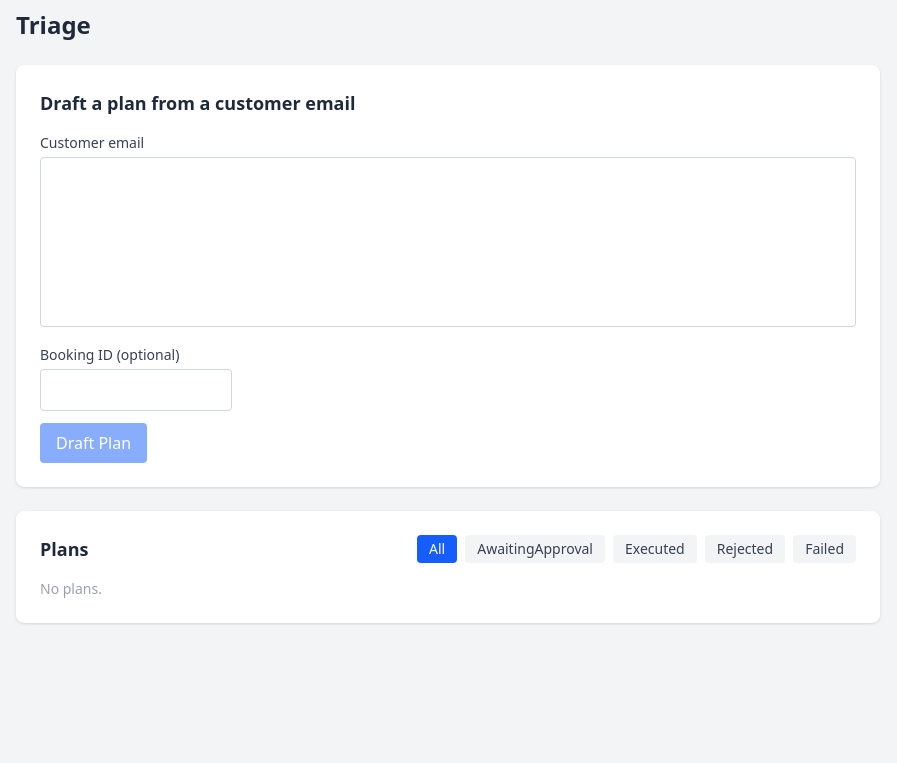
drafting a plan › submits the pasted email and displays the resulting plan
Type "Can I move my visit to next week?" into the text box labelled "Customer email" at (448, 242), box [40,157,856,327]
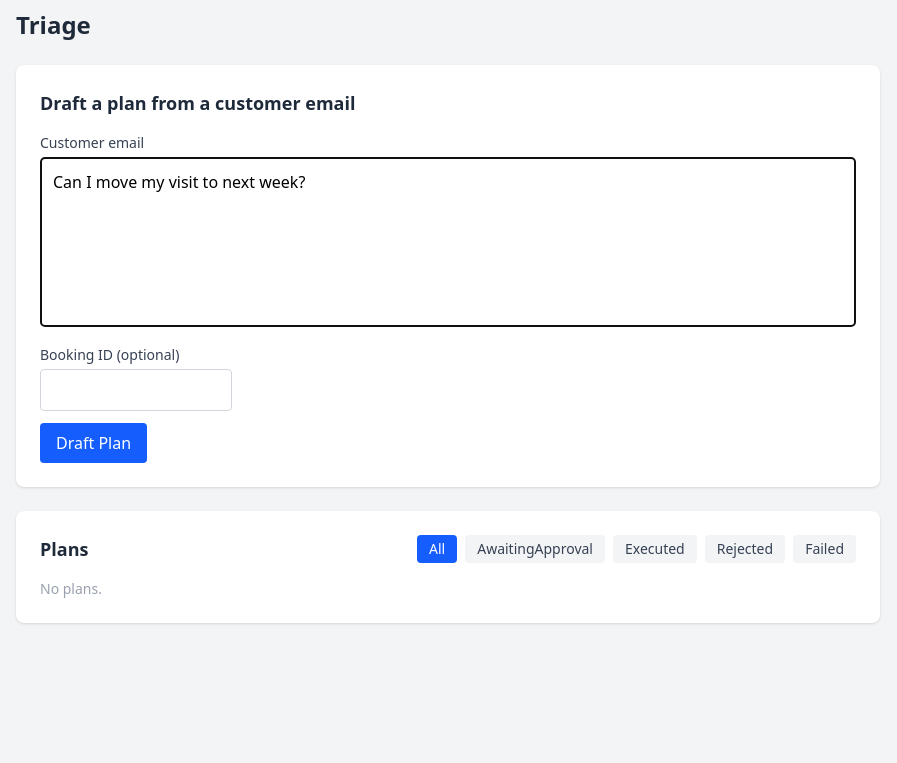
Type "179743" into the field labelled "Booking ID (optional)" at (136, 390), box [40,369,232,411]
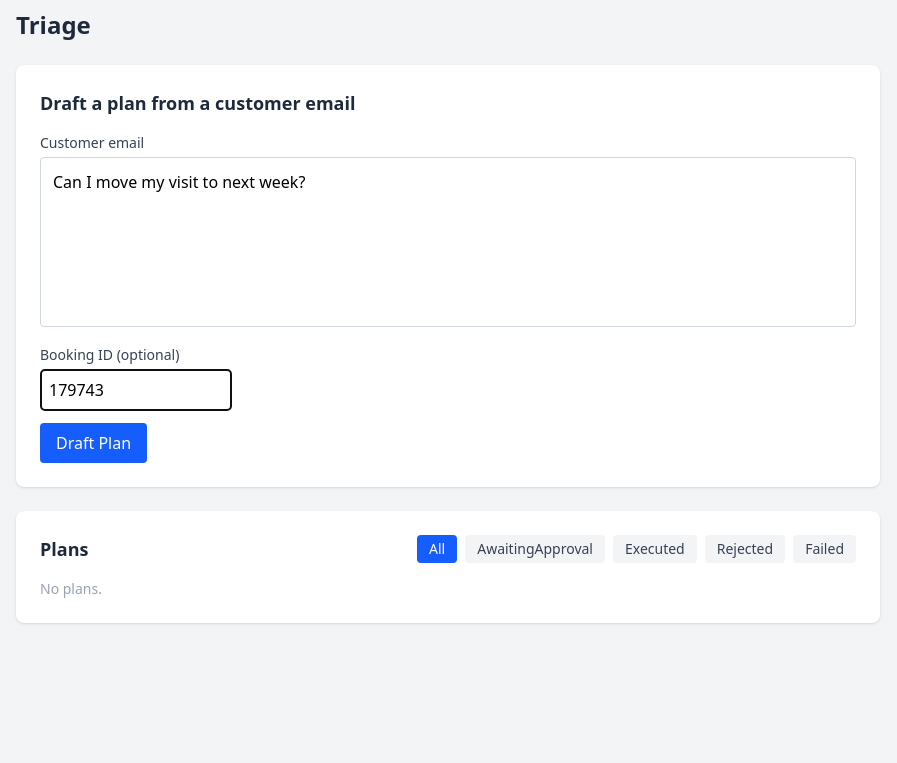
Click the button "Draft Plan" at (94, 443), box [40,423,147,463]
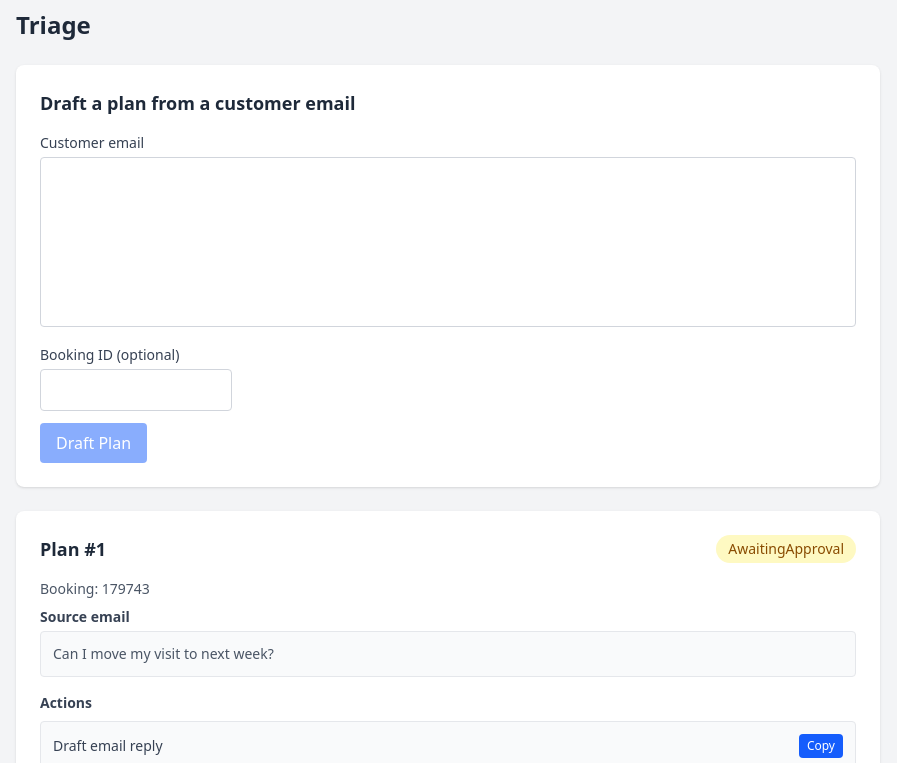
Expected: the heading "Plan #1" is shown, [40,535,106,563]
Expected: the text "AwaitingApproval" is shown, [716,535,856,563]
